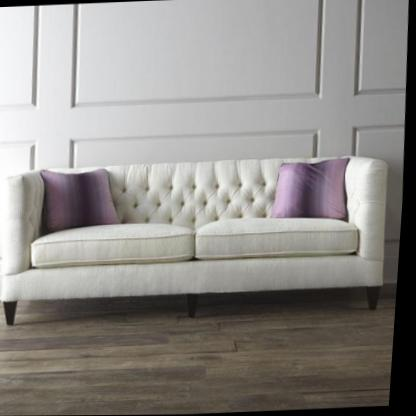Sofa: (0, 154, 395, 323)
